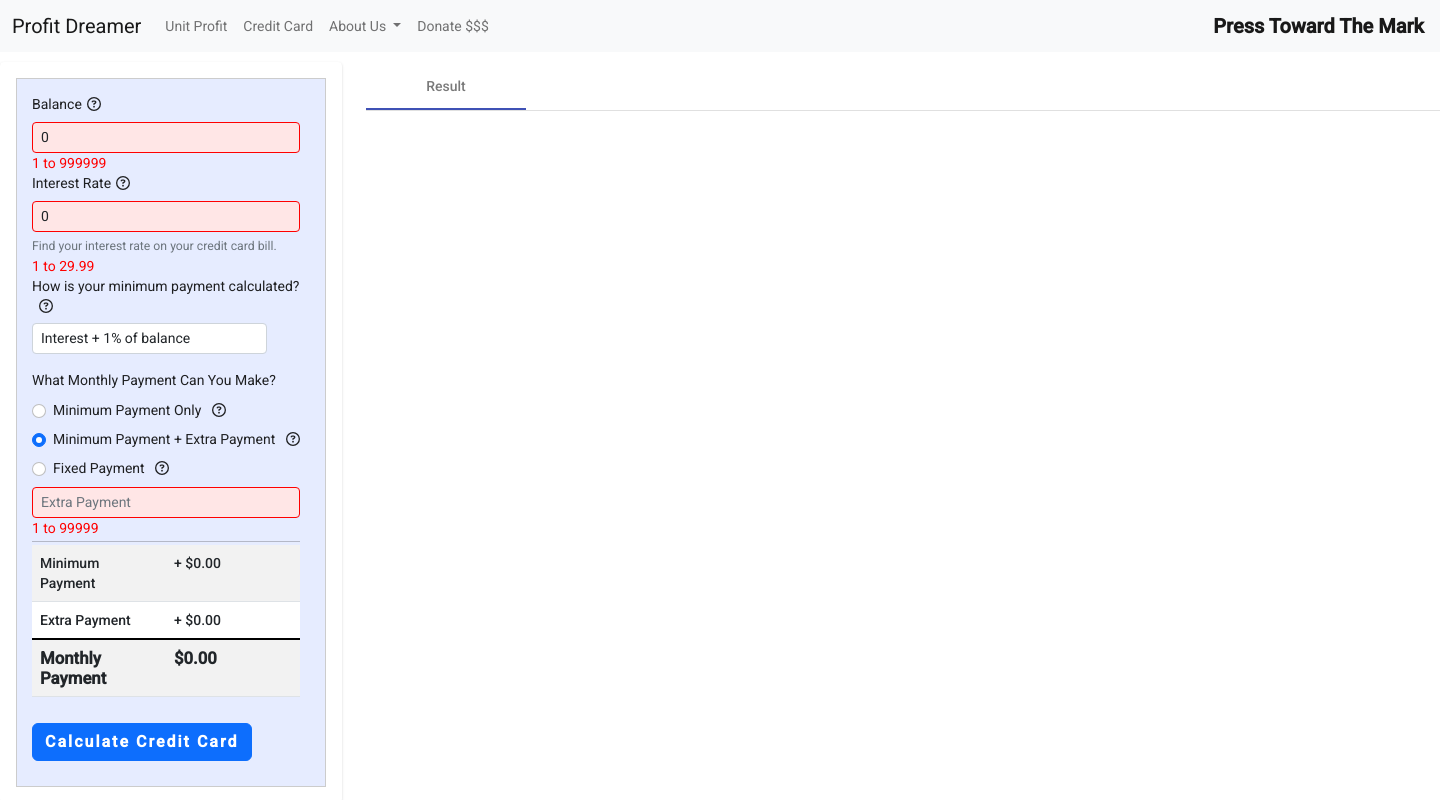
Scenario: credit-card-validation.cy.ts › extra payment › enter 1 error should not be visible
Type "1" into the field with id "extra-payment".
click(166, 503); type("1")  # box [32, 487, 300, 518]
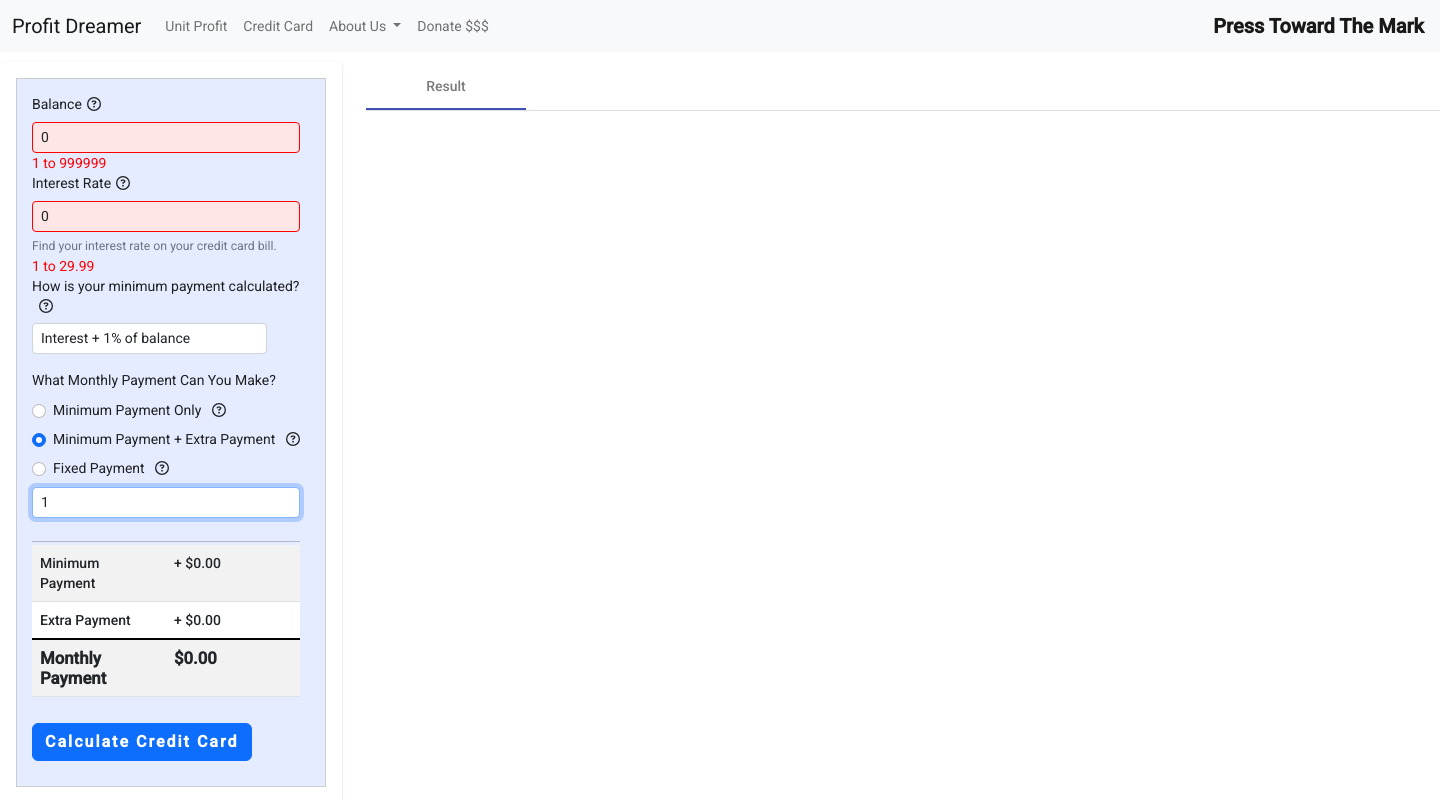
Expected: the text with id "extra-payment-error" is gone
